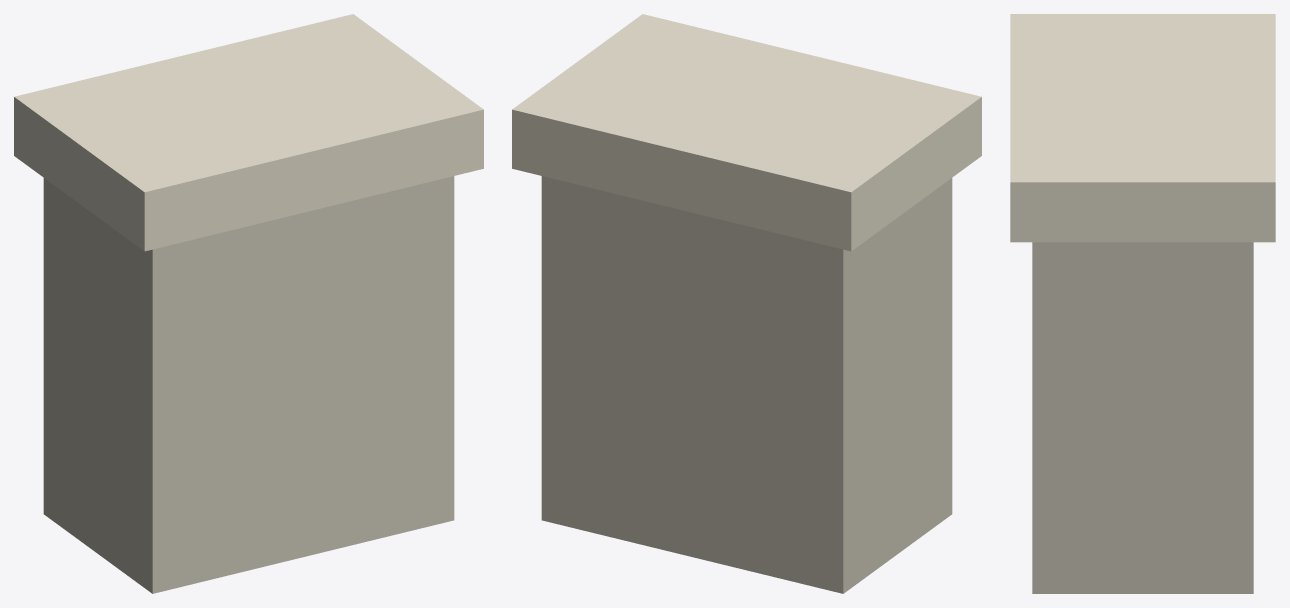
Rendered from battlement-merlon.glb.
3 renders of one model, left to right at view 1: azimuth 30°, elevation 25°; view 2: azimuth 150°, elevation 25°; view 3: azimuth 270°, elevation 25°, orthographic.
Parts seen in each view (by area): view 1: battlement-merlon; view 2: battlement-merlon; view 3: battlement-merlon.
Boxes of the visible parts, left/top/right/bottom form: battlement-merlon: left=14, top=14, right=483, bottom=593; battlement-merlon: left=512, top=14, right=981, bottom=593; battlement-merlon: left=1010, top=14, right=1275, bottom=593.
Bounding box in the file's own units: 0.9 × 1.05 × 0.6.
